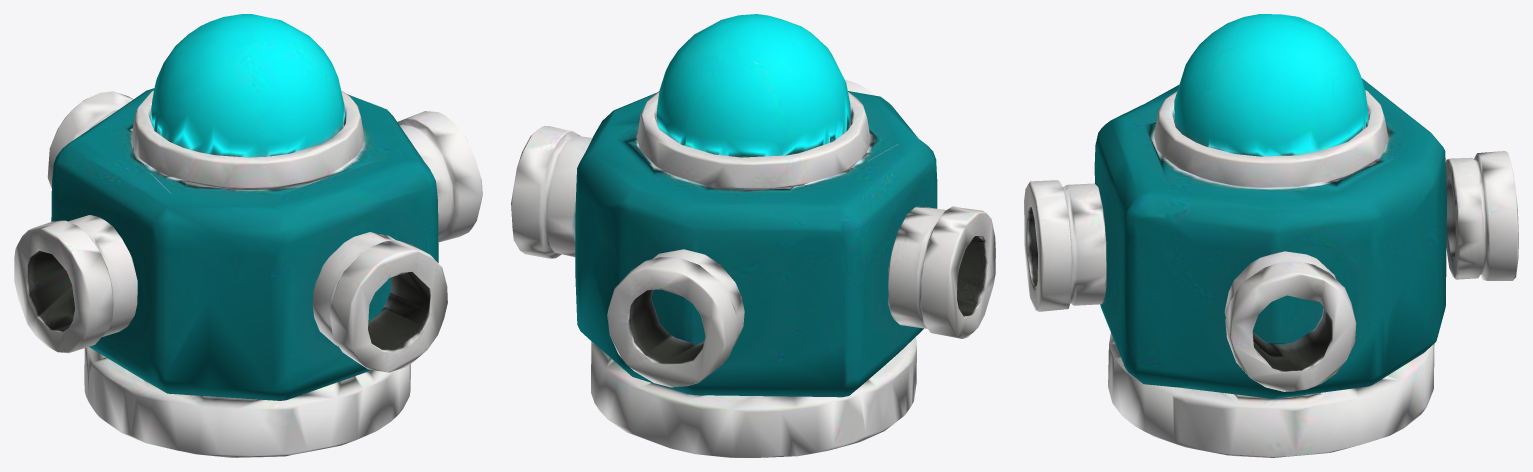
File: core.glb
3 renders of one model, left to right at view 1: azimuth 30°, elevation 25°; view 2: azimuth 150°, elevation 25°; view 3: azimuth 270°, elevation 25°, orthographic.
Visible parts, largest first — view 1: tripo_node_9ce8248e-4dcf-418c-8cb0-dae21c4a27c9; view 2: tripo_node_9ce8248e-4dcf-418c-8cb0-dae21c4a27c9; view 3: tripo_node_9ce8248e-4dcf-418c-8cb0-dae21c4a27c9.
Part boxes in pixels (bbox=[...]): tripo_node_9ce8248e-4dcf-418c-8cb0-dae21c4a27c9: bbox=[14, 14, 482, 457]; tripo_node_9ce8248e-4dcf-418c-8cb0-dae21c4a27c9: bbox=[511, 14, 995, 457]; tripo_node_9ce8248e-4dcf-418c-8cb0-dae21c4a27c9: bbox=[1024, 14, 1518, 457].
Bounding box in the file's own units: 0.9784 × 0.8066 × 0.9769.
Materials: 1 (1 with a texture image).
